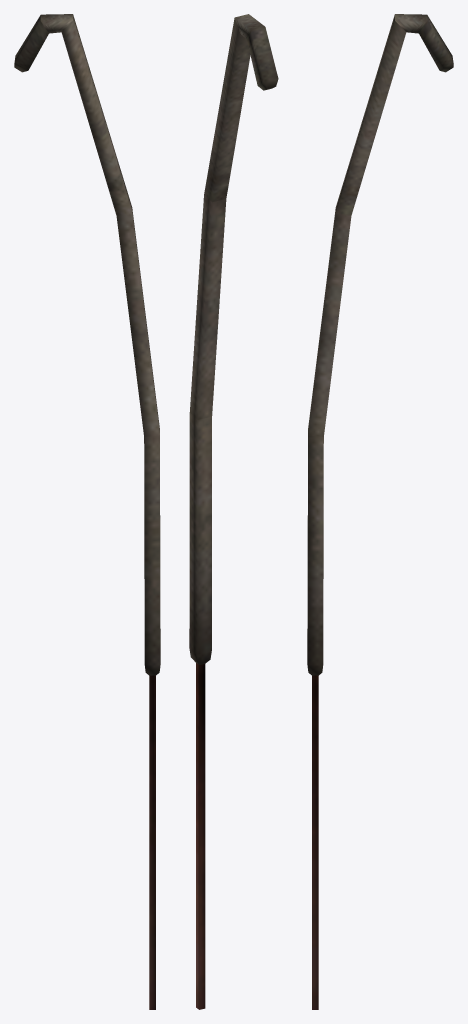
Rendered from incense03.FBX.
The picture shows the model from 3 angles, left to right: view 1: azimuth 90°, elevation 25°; view 2: azimuth 210°, elevation 25°; view 3: azimuth 270°, elevation 25°; orthographic projection. The views are drawn at different scales.
Parts seen in each view (by area): view 1: SM_Incense03; view 2: SM_Incense03; view 3: SM_Incense03.
Part boxes in pixels (left/top/right/bottom): SM_Incense03: left=14, top=14, right=160, bottom=1009; SM_Incense03: left=189, top=14, right=278, bottom=1009; SM_Incense03: left=307, top=14, right=453, bottom=1009.
Size of the model in its own units: 0.3017 by 20.79 by 2.78.
1 material, 1 textured.
